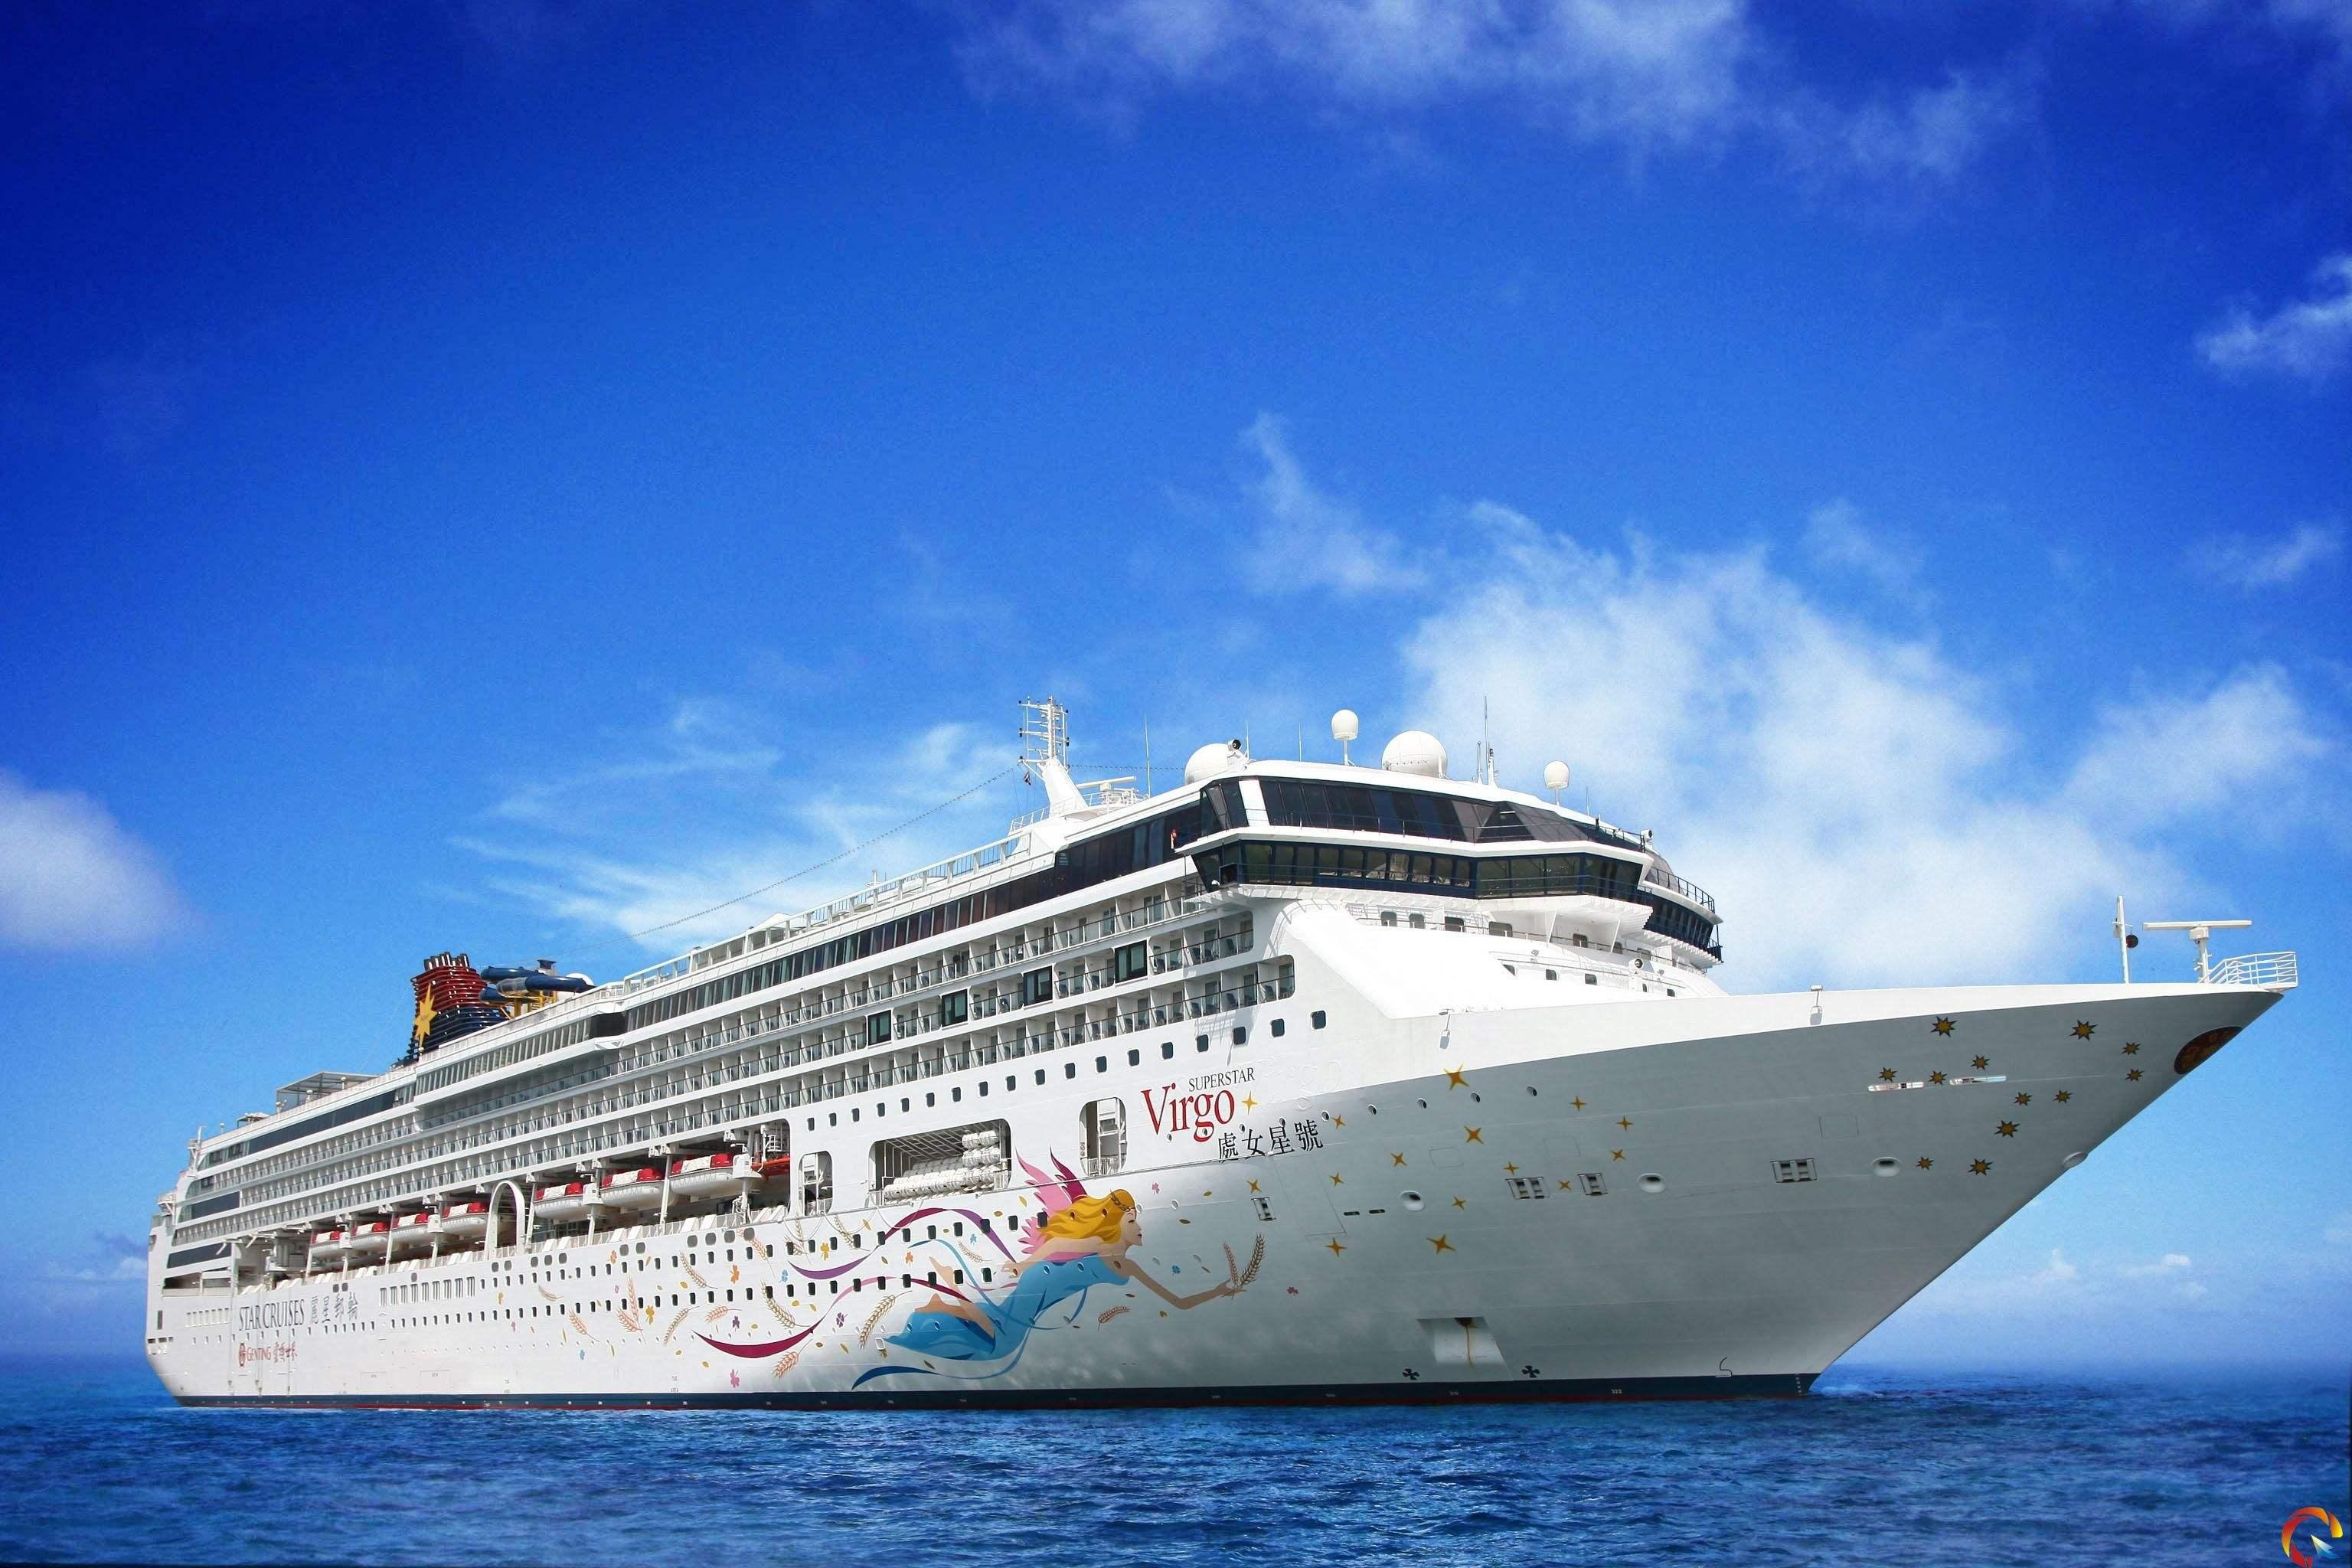youlun: (128, 703, 2287, 1407)
